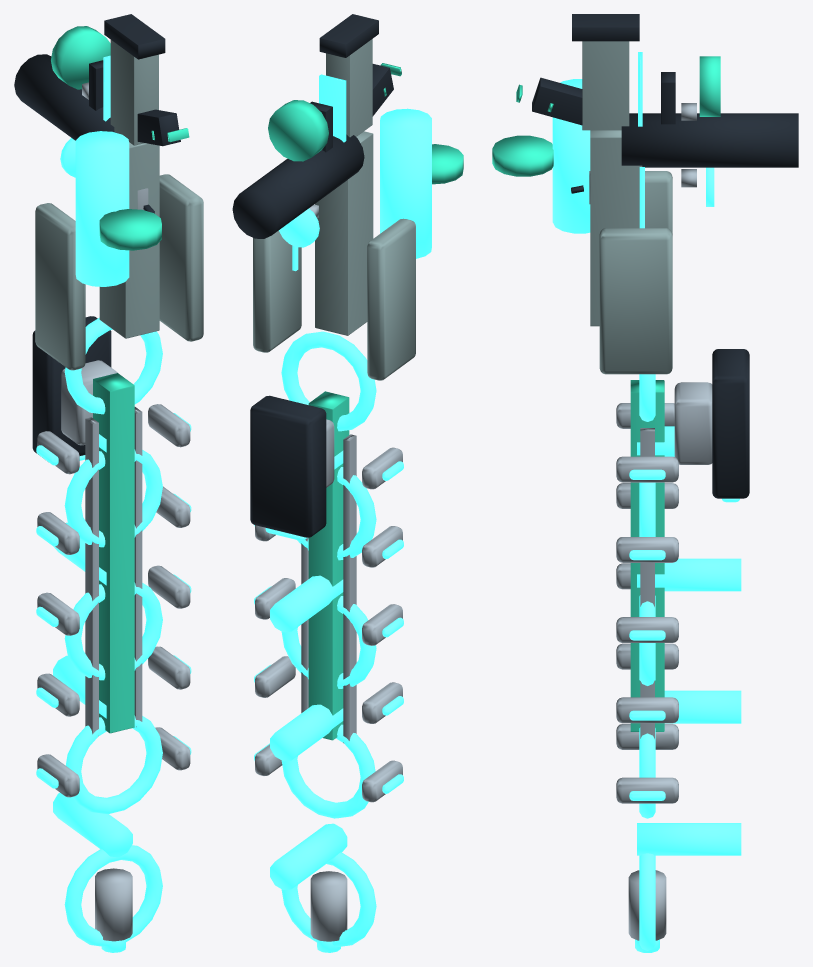
The model's file is railgun.glb.
3 renders of one model, left to right at view 1: azimuth 30°, elevation 25°; view 2: azimuth 150°, elevation 25°; view 3: azimuth 270°, elevation 25°, orthographic. The views are drawn at different scales.
Parts seen in each view (by area): view 1: RailChassis, BioCell, REFIT railgun capacitor side panel, REFIT railgun capacitor side panel.001, Receiver.002, ScopeBody, Coil_4, StockBody, Rail_L, REFIT railgun precision sight hood, Coil_3, Coil_1.001 (+25 smaller); view 2: REFIT railgun precision sight hood, Receiver.002, RailChassis, REFIT railgun capacitor side panel, ScopeBody, BioCell, REFIT railgun capacitor side panel.001, Rail_L, Coil_0.001, ScopeEyepiece, StockBody, CapTop_3 (+22 smaller); view 3: REFIT railgun capacitor side panel.001, ScopeBody, REFIT railgun precision sight hood, Receiver.002, RailChassis, BioCell, StockBody, CapTop_3, REFIT railgun precision sight pedestal, CapTop_1, CapTop_2, BioCellCap (+20 smaller).
Boxes of the visible parts, bbox=[...] form: RailChassis: bbox=[93, 373, 134, 733]; BioCell: bbox=[75, 131, 129, 286]; REFIT railgun capacitor side panel: bbox=[35, 203, 85, 370]; REFIT railgun capacitor side panel.001: bbox=[159, 174, 203, 341]; Receiver.002: bbox=[99, 142, 159, 338]; ScopeBody: bbox=[14, 54, 115, 140]; Coil_4: bbox=[64, 845, 162, 946]; StockBody: bbox=[110, 40, 158, 145]; Rail_L: bbox=[85, 417, 98, 736]; REFIT railgun precision sight hood: bbox=[32, 316, 111, 455]; Coil_3: bbox=[65, 715, 162, 813]; Coil_1.001: bbox=[64, 449, 162, 547]; REFIT railgun precision sight hood: bbox=[250, 395, 326, 537]; Receiver.002: bbox=[315, 131, 373, 335]; RailChassis: bbox=[308, 391, 349, 740]; REFIT railgun capacitor side panel: bbox=[367, 218, 415, 380]; ScopeBody: bbox=[232, 134, 364, 238]; BioCell: bbox=[380, 108, 431, 258]; REFIT railgun capacitor side panel.001: bbox=[253, 231, 301, 352]; Rail_L: bbox=[343, 434, 356, 743]; Coil_0.001: bbox=[281, 331, 376, 431]; ScopeEyepiece: bbox=[268, 100, 328, 161]; StockBody: bbox=[326, 39, 372, 137]; CapTop_3: bbox=[270, 823, 347, 889]; REFIT railgun capacitor side panel.001: bbox=[599, 228, 672, 374]; ScopeBody: bbox=[621, 113, 798, 167]; REFIT railgun precision sight hood: bbox=[712, 349, 749, 498]; Receiver.002: bbox=[590, 130, 642, 326]; RailChassis: bbox=[630, 380, 664, 731]; BioCell: bbox=[552, 79, 590, 233]; StockBody: bbox=[582, 41, 629, 130]; CapTop_3: bbox=[637, 823, 741, 855]; REFIT railgun precision sight pedestal: bbox=[674, 382, 712, 464]; CapTop_1: bbox=[637, 558, 741, 591]; CapTop_2: bbox=[664, 690, 741, 723]; BioCellCap: bbox=[492, 135, 553, 176].
Bounding box in the file's own units: 0.1562 × 0.982 × 0.294.
